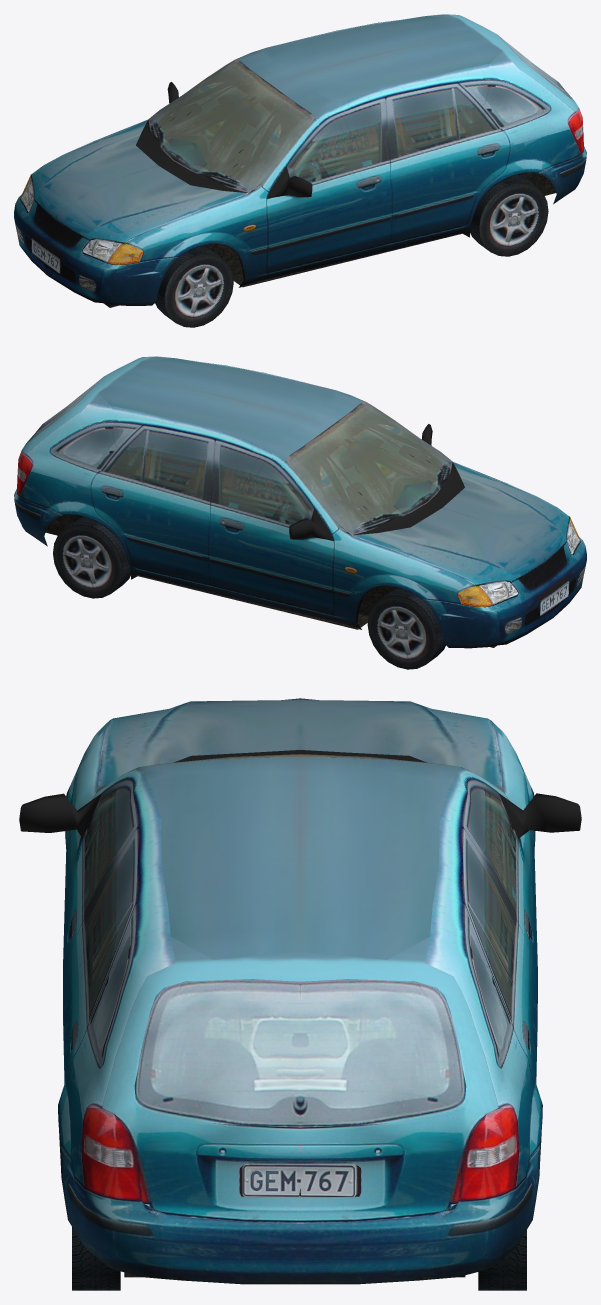
3 renders of one model, top to bottom at view 1: azimuth 30°, elevation 25°; view 2: azimuth 150°, elevation 25°; view 3: azimuth 270°, elevation 25°, orthographic. The views are drawn at different scales.
Visible parts, largest first — view 1: 03body, 03tyre, 03tyresurf, 03fill, 03plates; view 2: 03body, 03tyre, 03fill, 03tyresurf, 03plates; view 3: 03body, 03plates, 03tyresurf.
Part boxes in pixels (bbox=[...]): 03body: bbox=[14, 14, 586, 305]; 03tyre: bbox=[164, 182, 548, 327]; 03tyresurf: bbox=[155, 174, 536, 322]; 03fill: bbox=[104, 172, 555, 307]; 03plates: bbox=[31, 238, 60, 273]; 03body: bbox=[14, 356, 586, 648]; 03tyre: bbox=[53, 524, 436, 669]; 03fill: bbox=[45, 514, 496, 647]; 03tyresurf: bbox=[66, 516, 445, 664]; 03plates: bbox=[540, 581, 569, 615]; 03body: bbox=[19, 698, 581, 1284]; 03plates: bbox=[242, 1164, 357, 1197]; 03tyresurf: bbox=[72, 1227, 526, 1290].
Size of the model in its own units: 4.11 by 1.37 by 1.96.
18 materials, 17 textured.
